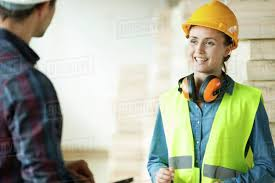Person_wearing_helmet: (178, 0, 239, 48)
